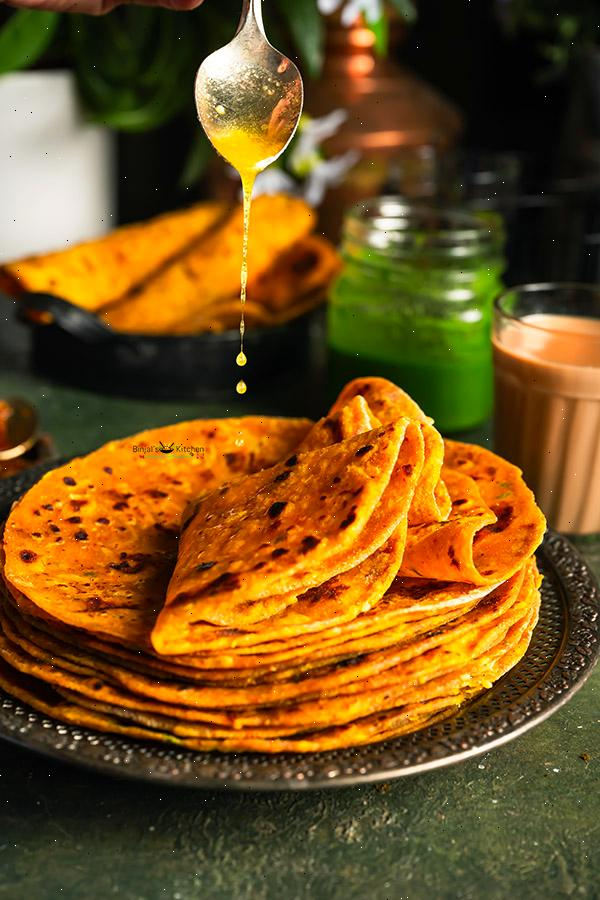thepla: (0, 393, 560, 727)
